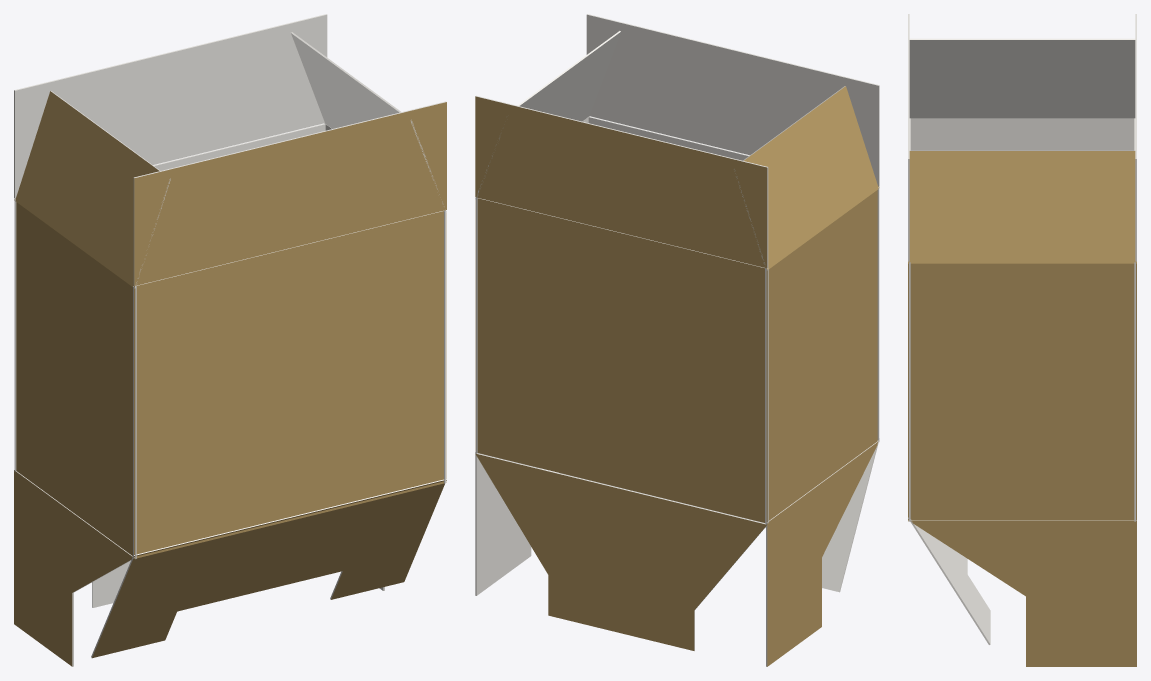
3 views of the same model, side by side, from view 1: azimuth 30°, elevation 25°; view 2: azimuth 150°, elevation 25°; view 3: azimuth 270°, elevation 25° (orthographic). The views are drawn at different scales.
Visible parts, largest first — view 1: Packive_Box_fefco0216; view 2: Packive_Box_fefco0216; view 3: Packive_Box_fefco0216.
Part boxes in pixels (x1=…): Packive_Box_fefco0216: x1=14, y1=14, x2=446, y2=666; Packive_Box_fefco0216: x1=475, y1=14, x2=879, y2=666; Packive_Box_fefco0216: x1=908, y1=14, x2=1136, y2=666.
Bounding box in the file's own units: 0.3 × 0.492 × 0.2.
Materials: 26 (13 with a texture image).
